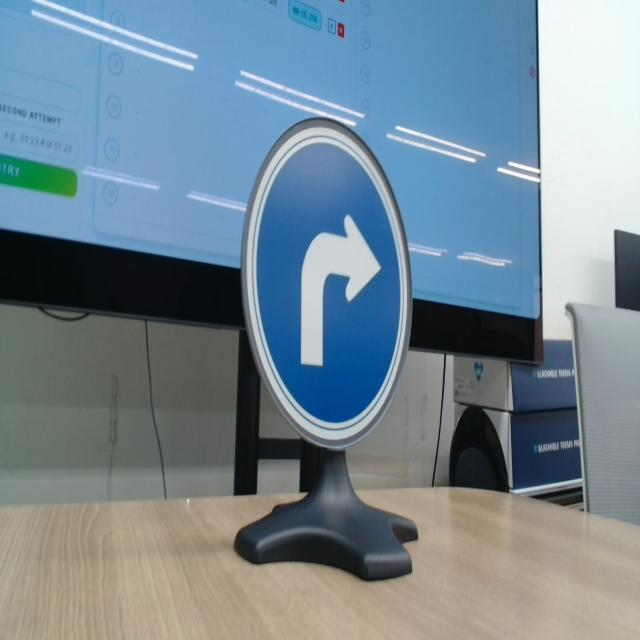right_dierection: (225, 87, 427, 500)
